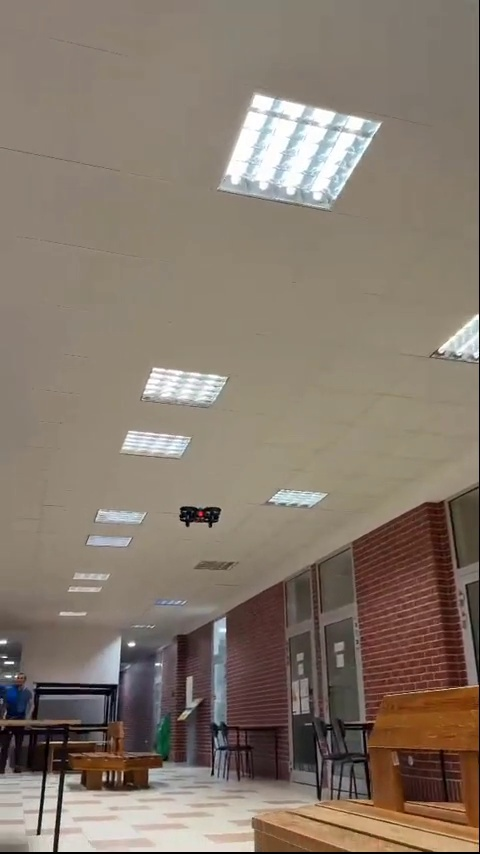drone: (173, 501, 223, 528)
no vest: (5, 666, 29, 720)
